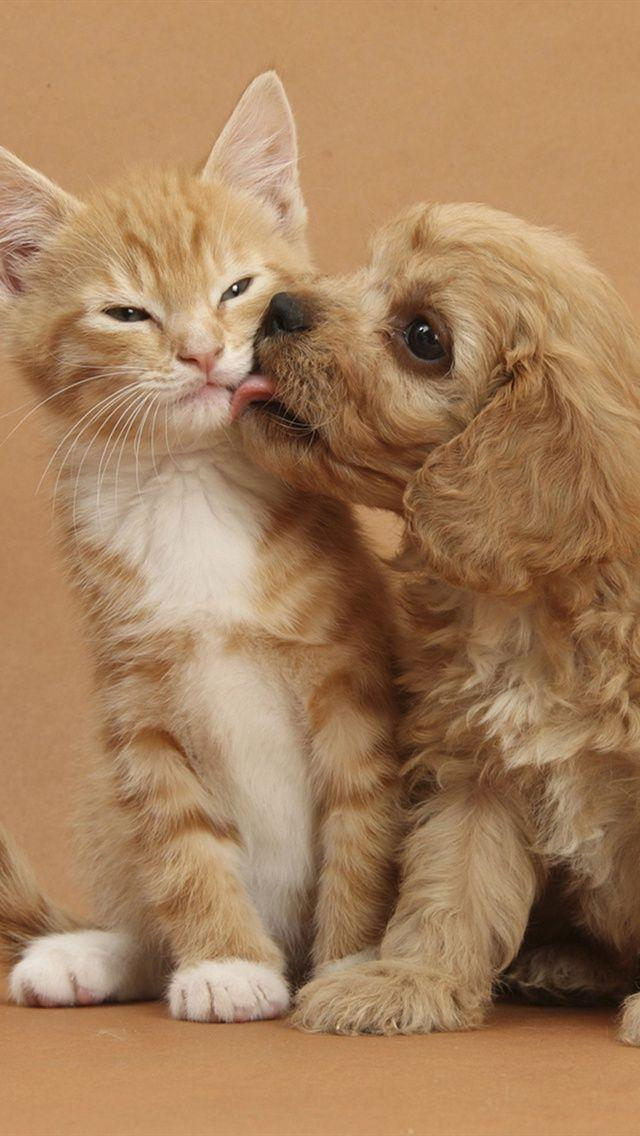kedo: (4, 68, 408, 1021)
